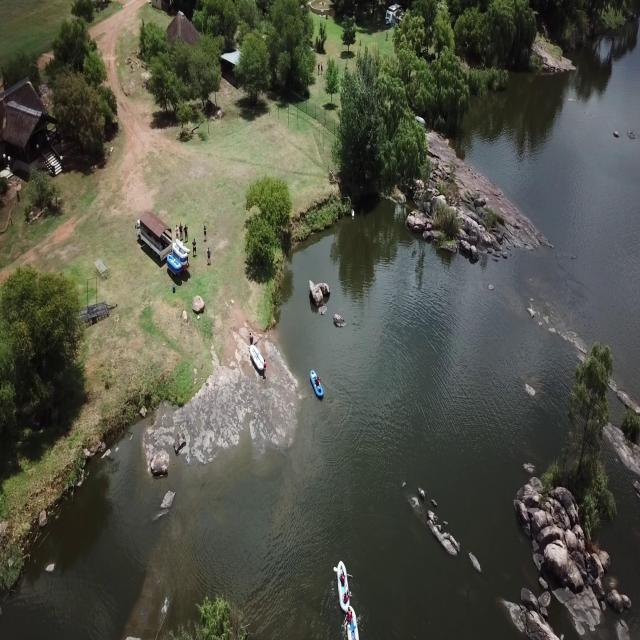kayak: (332, 558, 352, 614), (344, 607, 361, 640), (309, 366, 325, 400)
